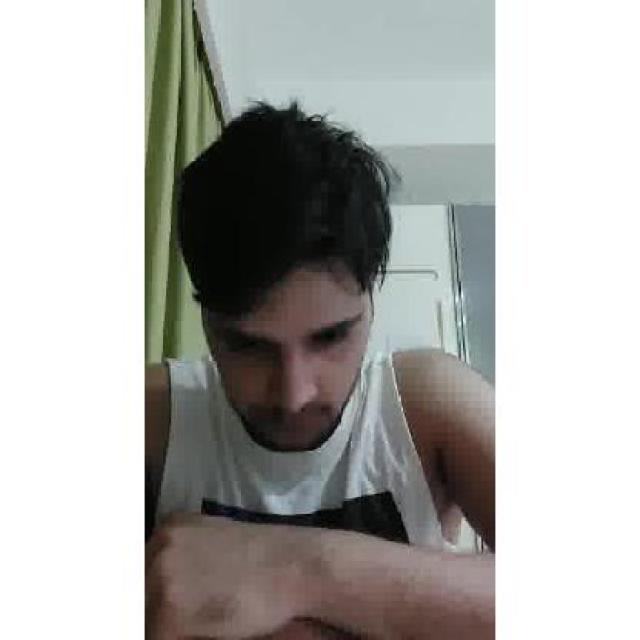inattentif: (182, 101, 375, 452)
